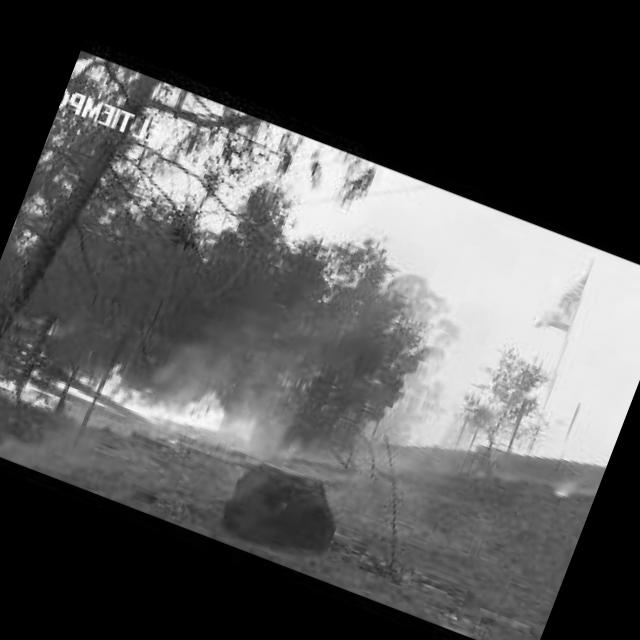fire: (54, 334, 264, 458), (0, 372, 59, 412), (26, 347, 51, 378), (43, 321, 57, 338)
smoke: (162, 252, 354, 426), (550, 466, 583, 506)
